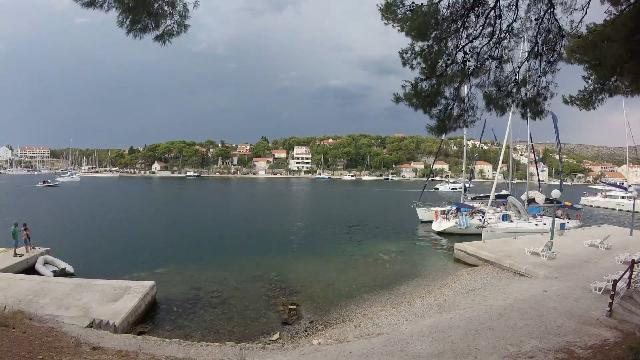Sailboat: (54, 170, 84, 184)
speedboat: (35, 177, 61, 189)
